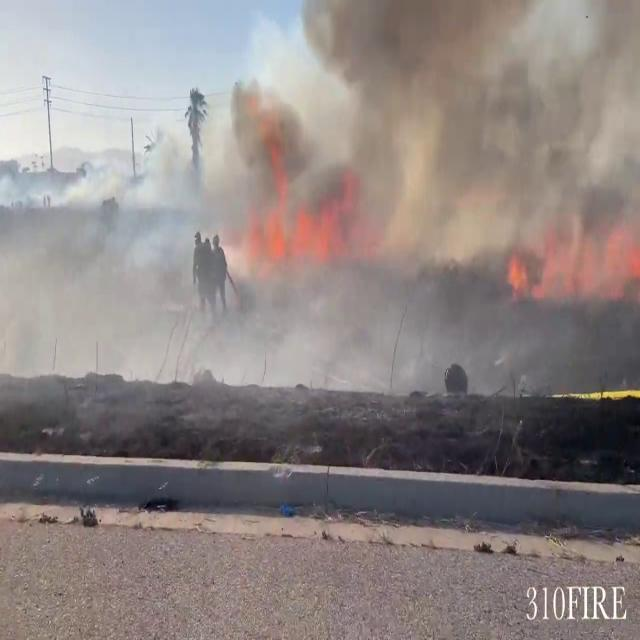Fire: (254, 138, 299, 252), (501, 250, 537, 300)
Smoke: (202, 0, 640, 369), (0, 125, 195, 274)
